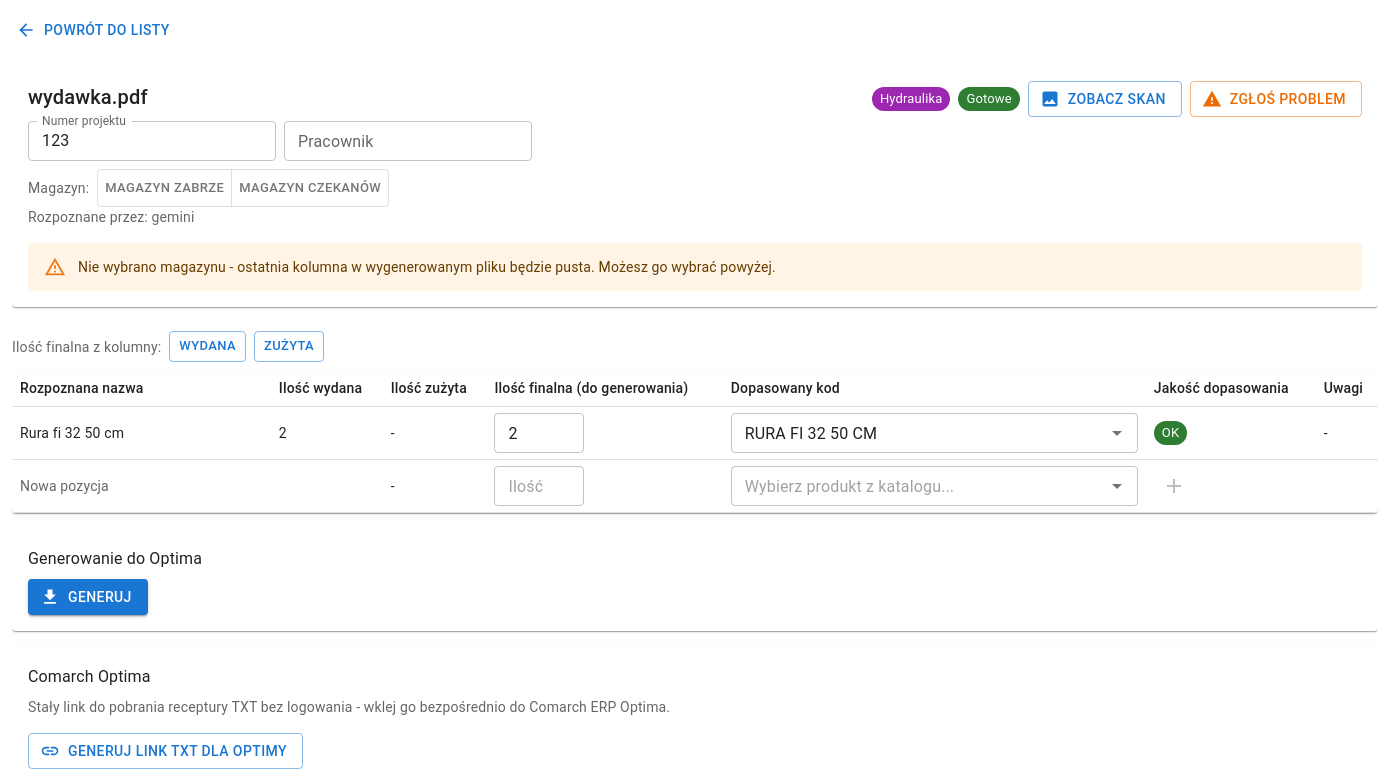
Test: DocumentDetailPage - MatchKodCell › pozwala skasowac backspacem koniec dopasowanego kodu, zeby zobaczyc inne warianty
Click the dropdown showing "RURA FI 32 50 CM" at {"x": 905, "y": 433}, box top-left (737, 419), bottom-right (1073, 447)
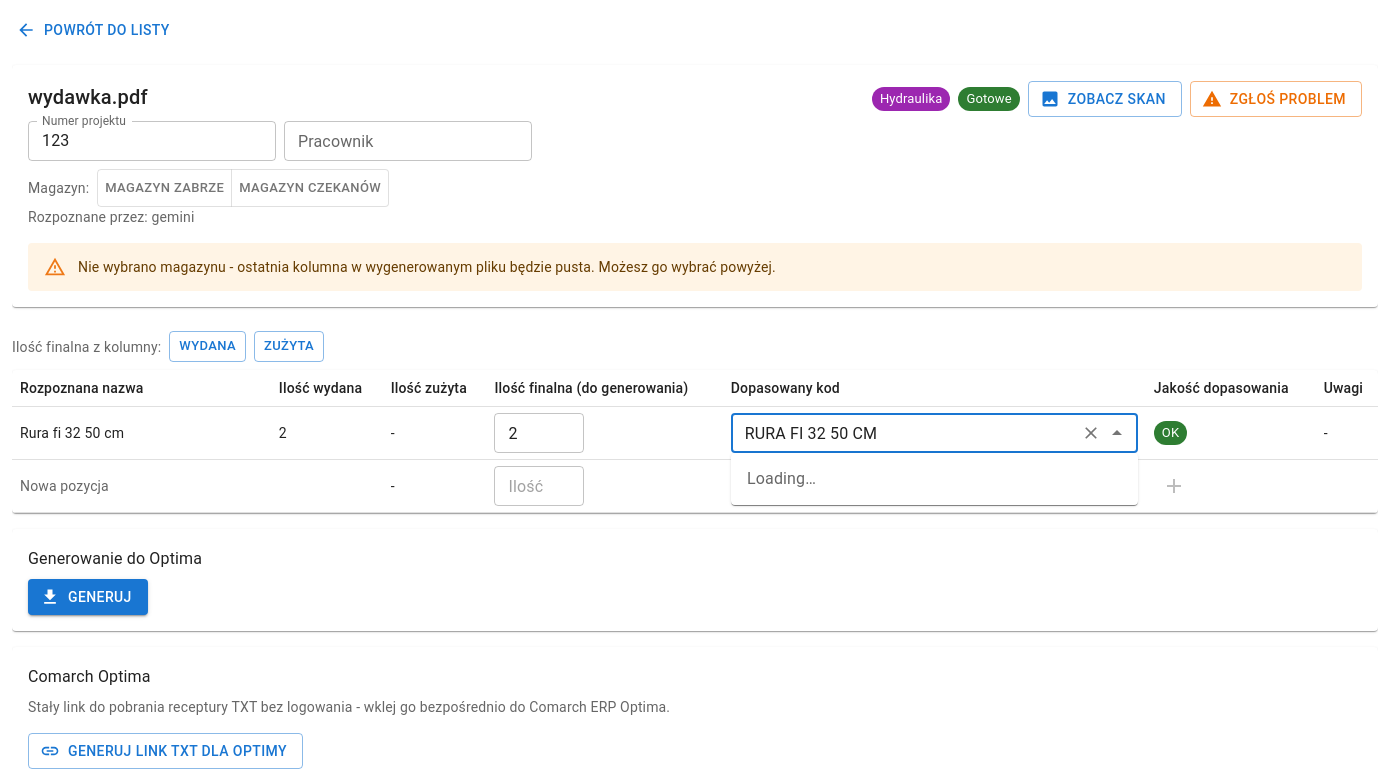
Press Backspace Backspace Backspace {Backsp
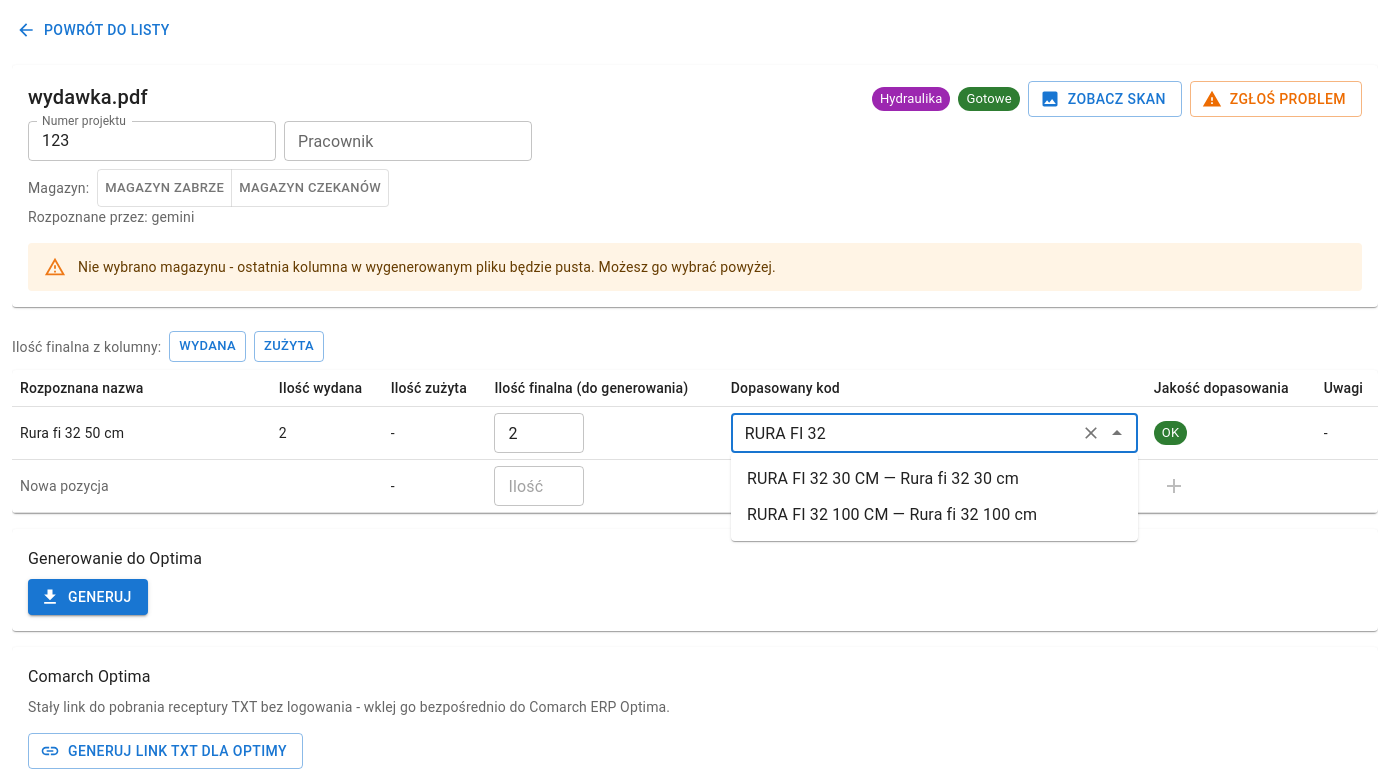
Expected: the dropdown showing "RURA FI 32 50 CM" holds "RURA FI 32 ", top-left (737, 419), bottom-right (1073, 447)
Expected: the option "RURA FI 32 100 CM — Rura fi 32 100 cm" is shown, top-left (747, 505), bottom-right (1037, 524)
